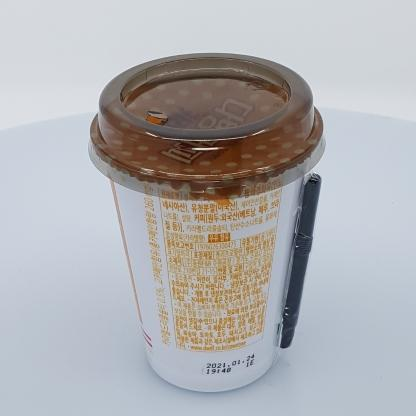---------: (88, 52, 325, 393)
